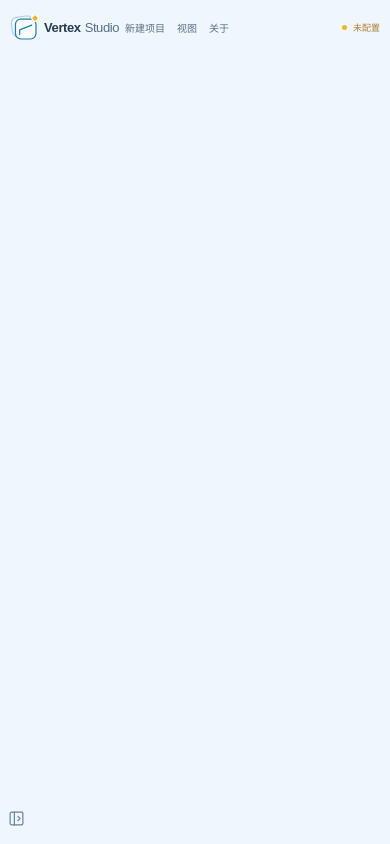
Test: 窄窗口默认收起，仍能打开图库
Step 1. Click the button named "展开侧栏" → (16,818), box [2,804,30,832]
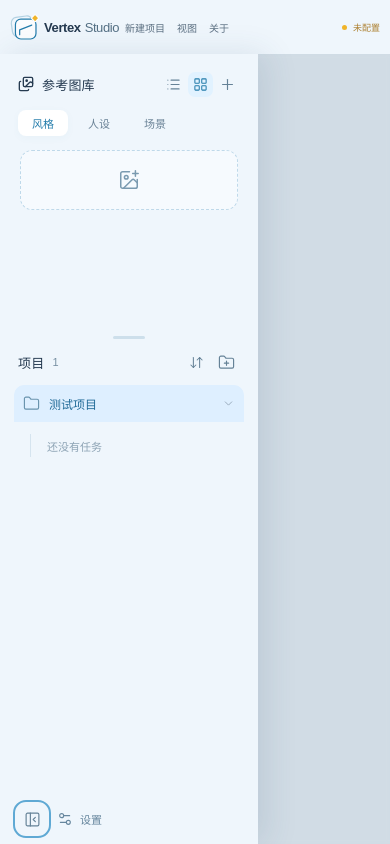
Expected: the text "参考图库" is shown, [18,74,95,94]
Expected: the button named "关闭侧栏遮罩" is shown
